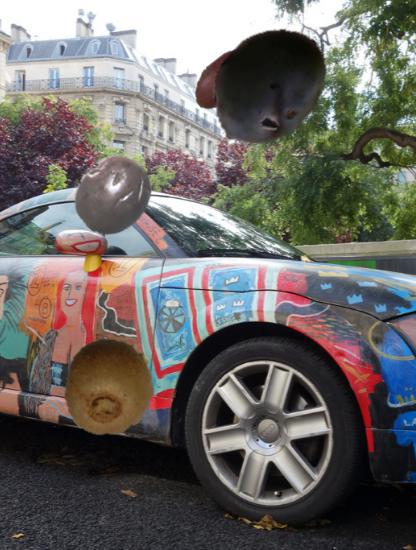Kiwi: (59, 338, 158, 437)
Passion: (71, 152, 156, 237)
Plum: (202, 21, 334, 153)
Potato: (189, 42, 265, 118)
